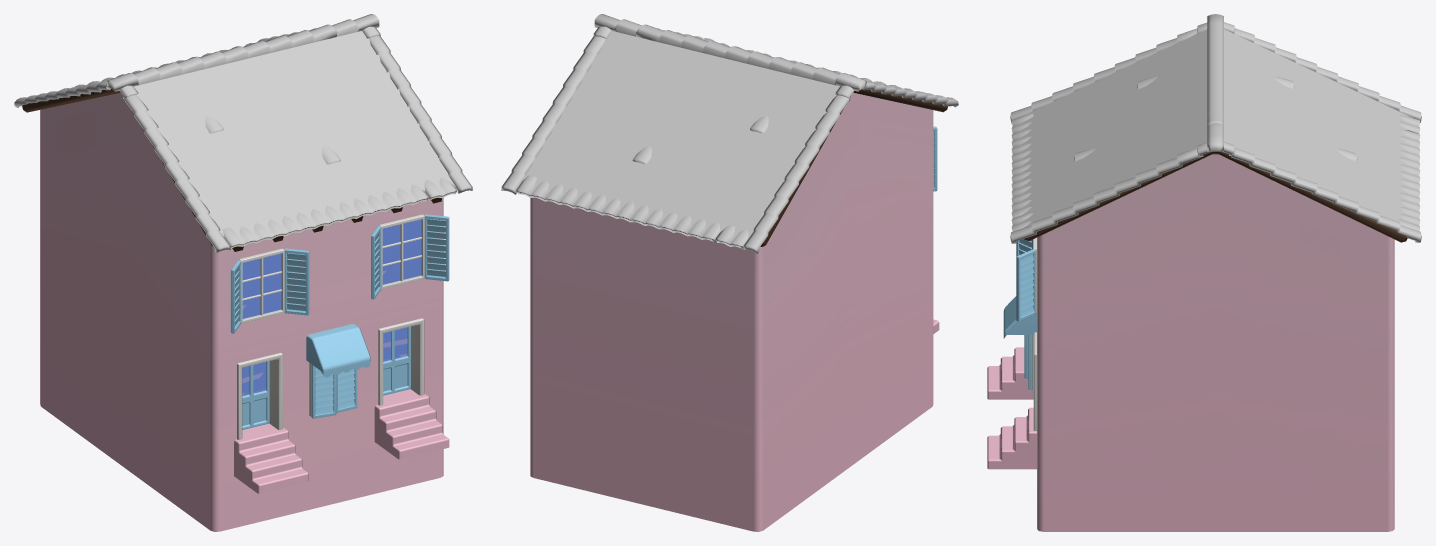
Rendered from BackgroundBuilding7_pink.fbx.
3 views of the same model, side by side, from view 1: azimuth 30°, elevation 25°; view 2: azimuth 150°, elevation 25°; view 3: azimuth 270°, elevation 25° (orthographic).
Parts seen in each view (by area): view 1: Pink; view 2: Pink; view 3: Pink.
Boxes of the visible parts, <box> form: Pink: <box>14,14,472,531</box>; Pink: <box>501,14,958,531</box>; Pink: <box>987,14,1421,531</box>.
Bounding box in the file's own units: 868 × 1228 × 1214.
